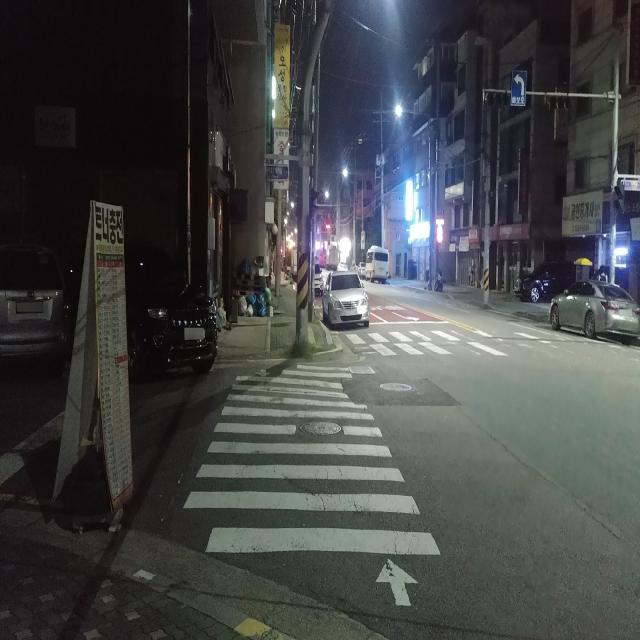횡단보도: (184, 363, 440, 608), (344, 329, 525, 359)
